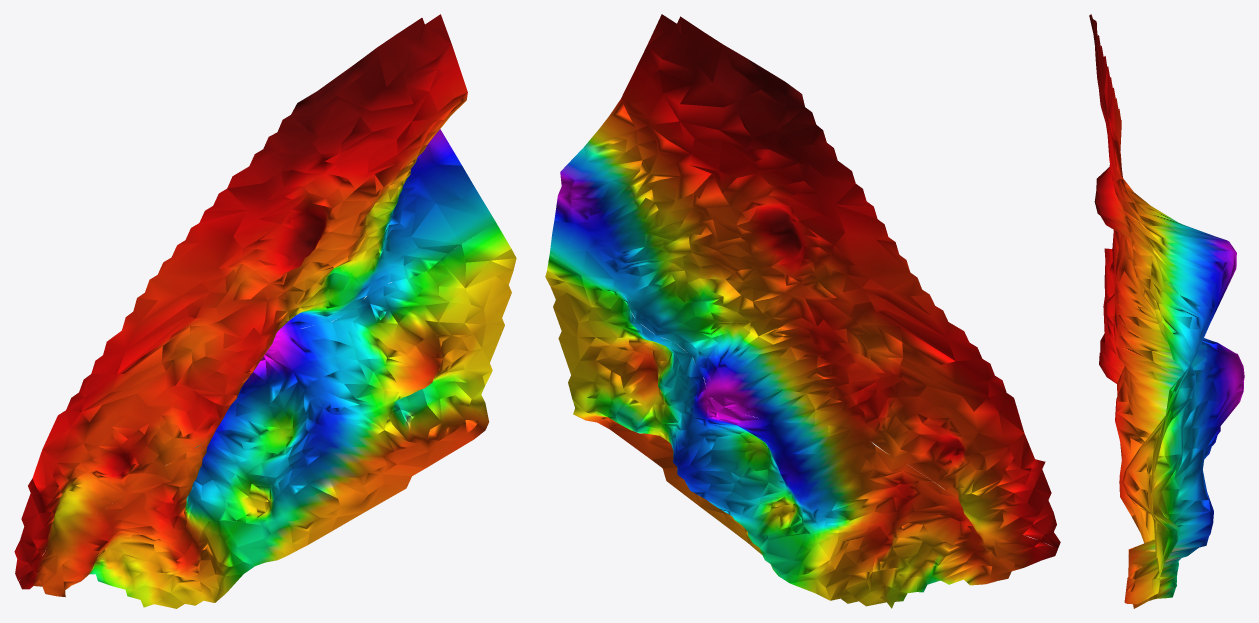
File: Topo_Campaniano_cubo.glb
3 views of the same model, side by side, from view 1: azimuth 30°, elevation 25°; view 2: azimuth 150°, elevation 25°; view 3: azimuth 270°, elevation 25° (orthographic). The views are drawn at different scales.
Parts seen in each view (by area): view 1: Surface; view 2: Surface; view 3: Surface.
Boxes of the visible parts, bbox=[...] form: Surface: bbox=[14, 14, 516, 608]; Surface: bbox=[545, 14, 1060, 608]; Surface: bbox=[1089, 14, 1244, 608].
Size of the model in its own units: 153247 by 155947 by 32488.
1 material, 1 textured.
